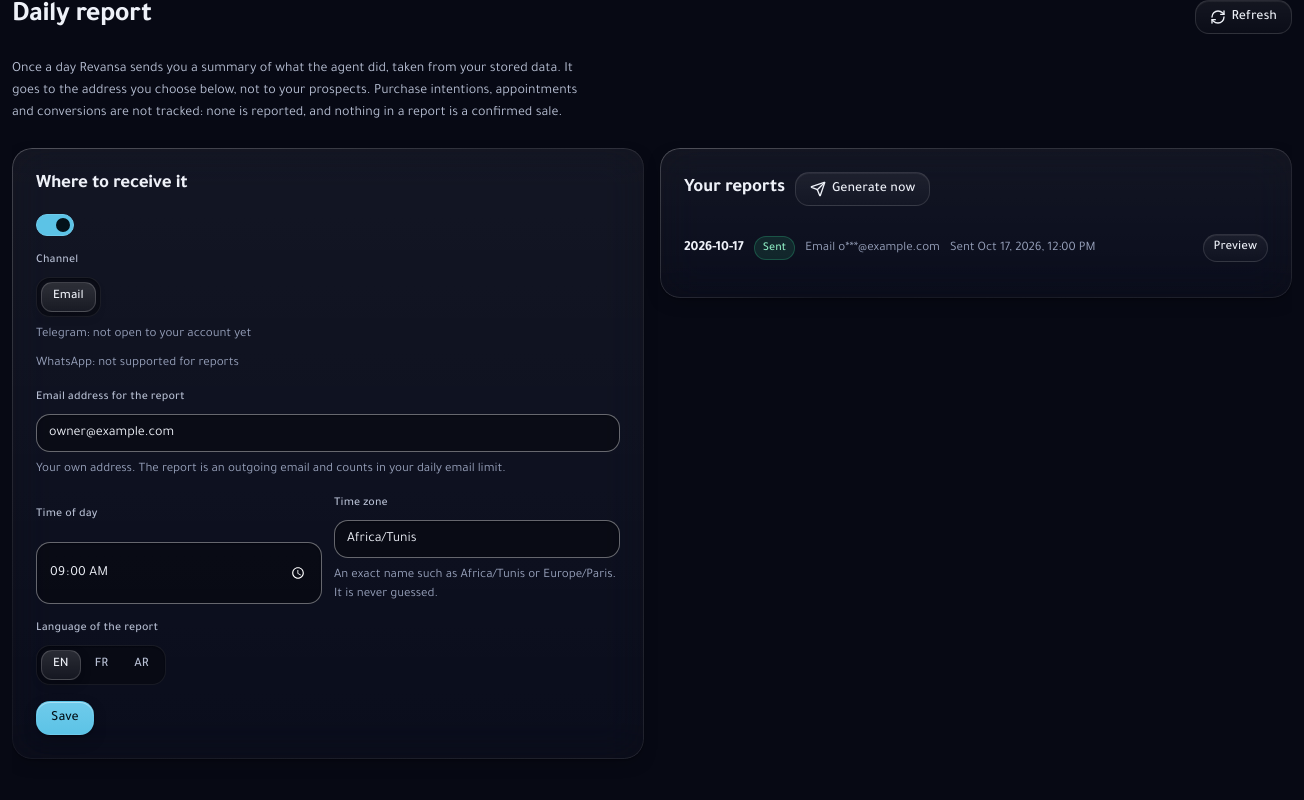
Test case: ClientReportingPage › previews a report with its figures, what is not tracked, and what needs the client
Click the button "Preview": click(1235, 248) [1203, 234, 1268, 262]
(page scrolled)
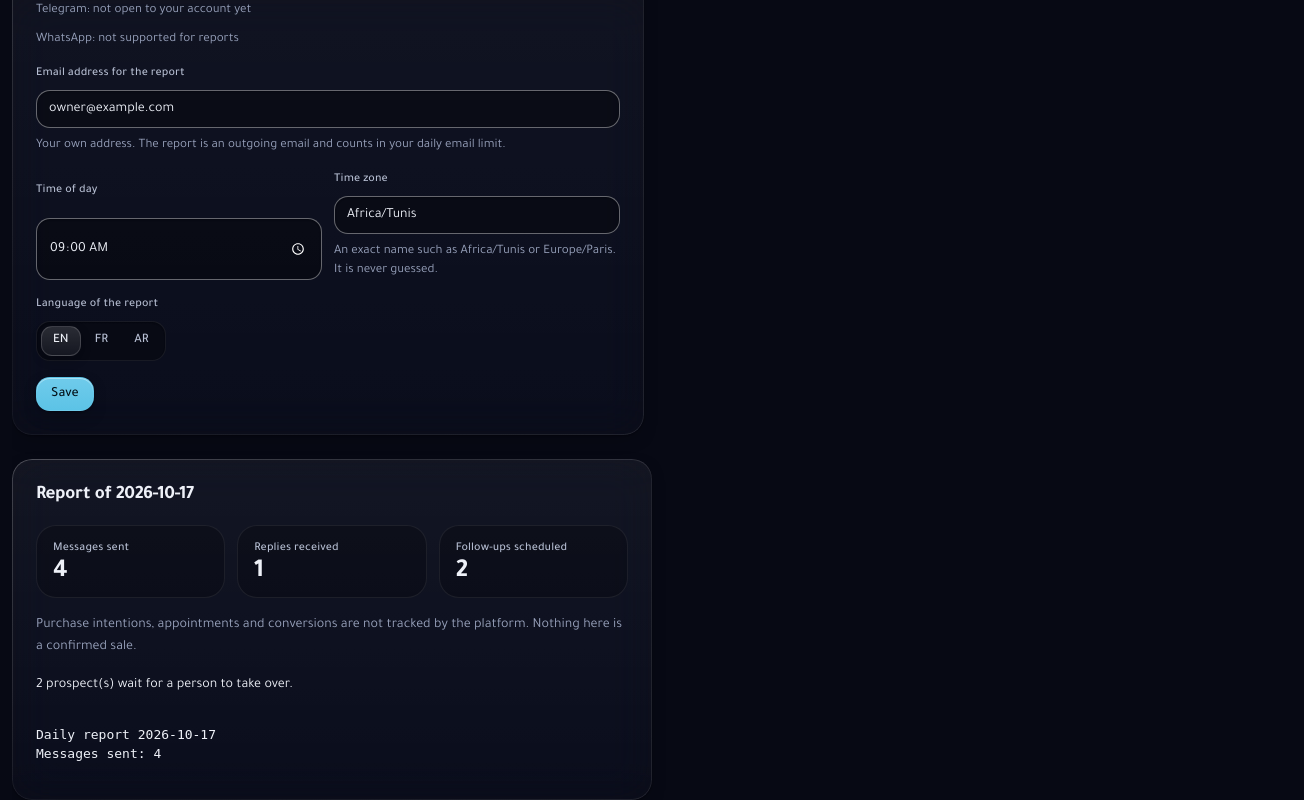
Expected: the text with test id "report-text" shows "Messages sent: 4", [36, 727, 216, 761]
Expected: the text with test id "report-untracked" shows "not tracked", [36, 618, 622, 654]
Expected: the text with test id "report-untracked" shows "Nothing here is a confirmed sale", [36, 618, 622, 654]
